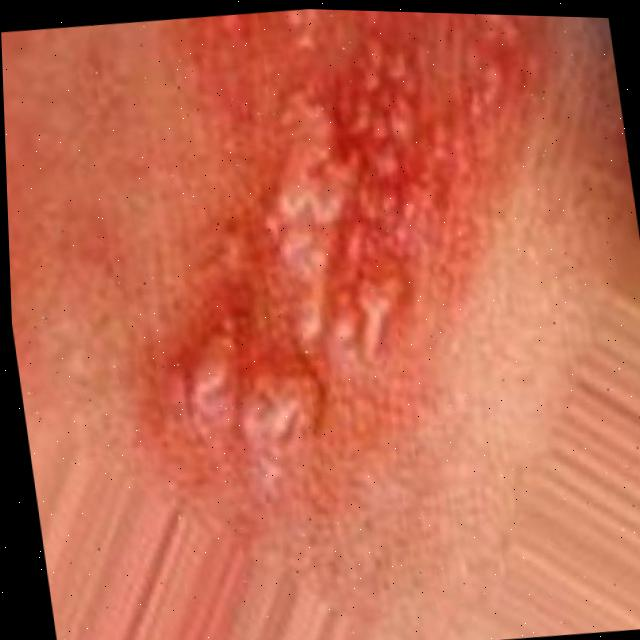Shingles: (134, 4, 526, 477)
